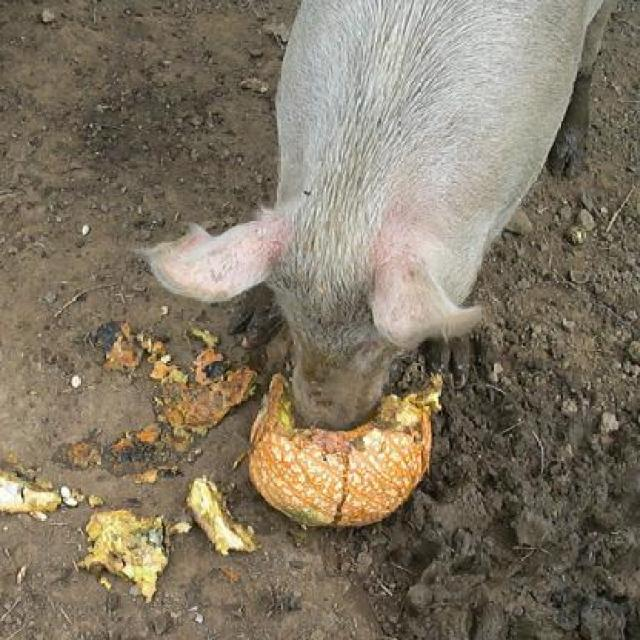Boar: (118, 0, 618, 432)
